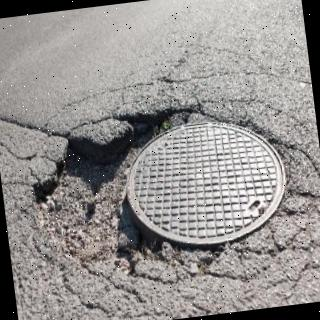pothole: (33, 103, 228, 282)
